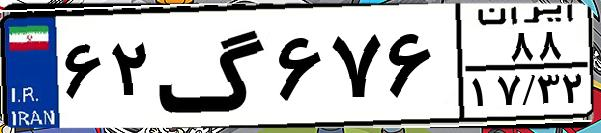1: (470, 70, 495, 125)
2: (110, 28, 156, 98), (560, 70, 590, 125)
3: (535, 70, 560, 125)
6: (270, 28, 330, 110), (385, 28, 445, 110), (57, 26, 110, 100)
7: (330, 28, 385, 110), (495, 70, 520, 125)
8: (537, 27, 568, 80), (508, 27, 537, 80)
گ: (156, 12, 270, 120)
